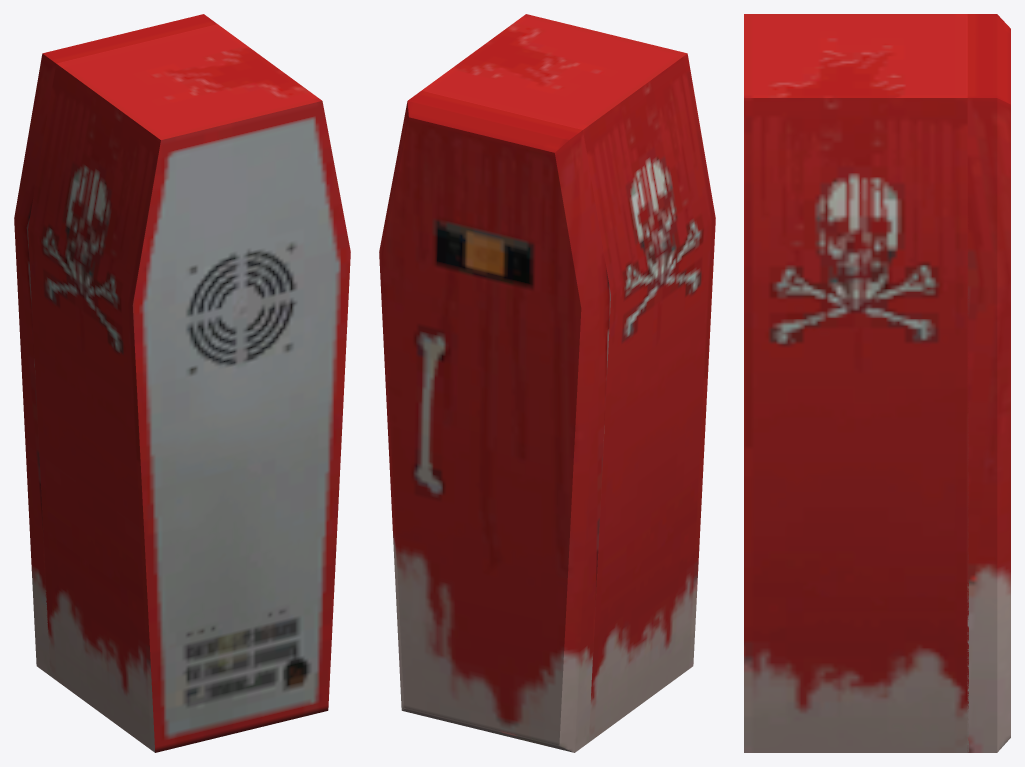
Rendered from furni_0200424.FBX.
The picture shows the model from 3 angles, left to right: view 1: azimuth 30°, elevation 25°; view 2: azimuth 150°, elevation 25°; view 3: azimuth 270°, elevation 25°; orthographic projection. The views are drawn at different scales.
Parts seen in each view (by area): view 1: furni_0200424; view 2: furni_0200424; view 3: furni_0200424.
Part boxes in pixels (bbox=[...]): furni_0200424: bbox=[14, 14, 350, 752]; furni_0200424: bbox=[379, 14, 715, 752]; furni_0200424: bbox=[744, 14, 1010, 752].
Bounding box in the file's own units: 59.71 × 160 × 59.3.
